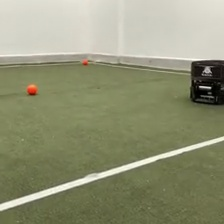ball: (25, 82, 38, 95), (82, 57, 89, 66)
robot: (189, 57, 224, 106)
